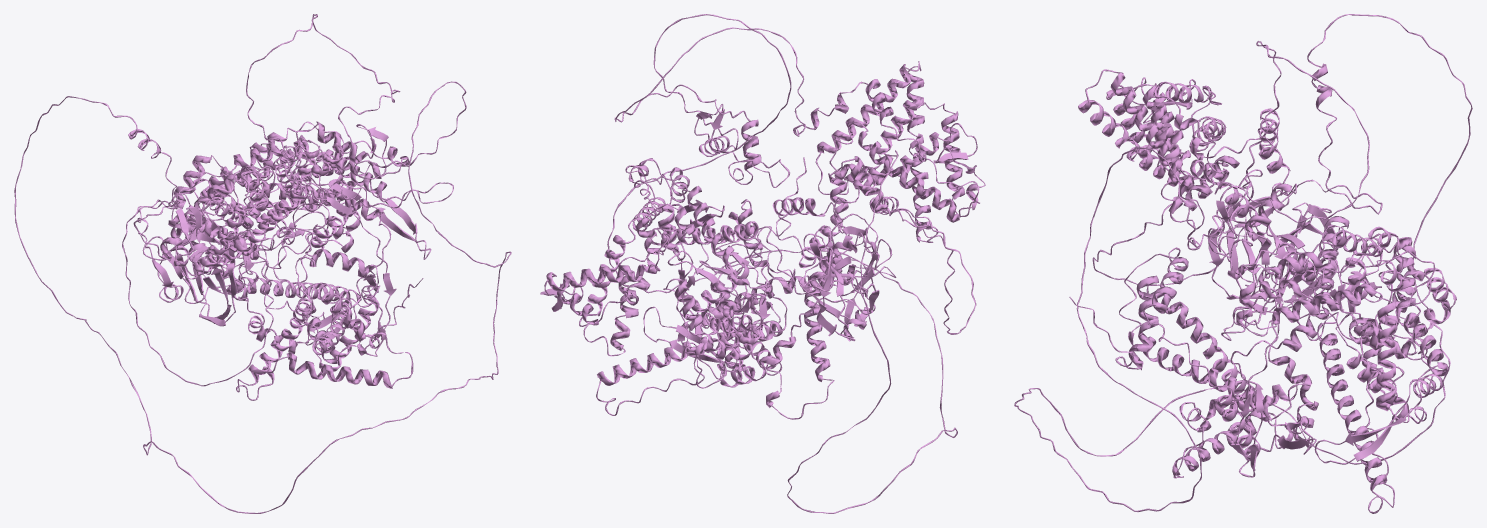
3 renders of one model, left to right at view 1: azimuth 30°, elevation 25°; view 2: azimuth 150°, elevation 25°; view 3: azimuth 270°, elevation 25°, orthographic. The views are drawn at different scales.
Bounding box in the file's own units: 128 × 134 × 116.
